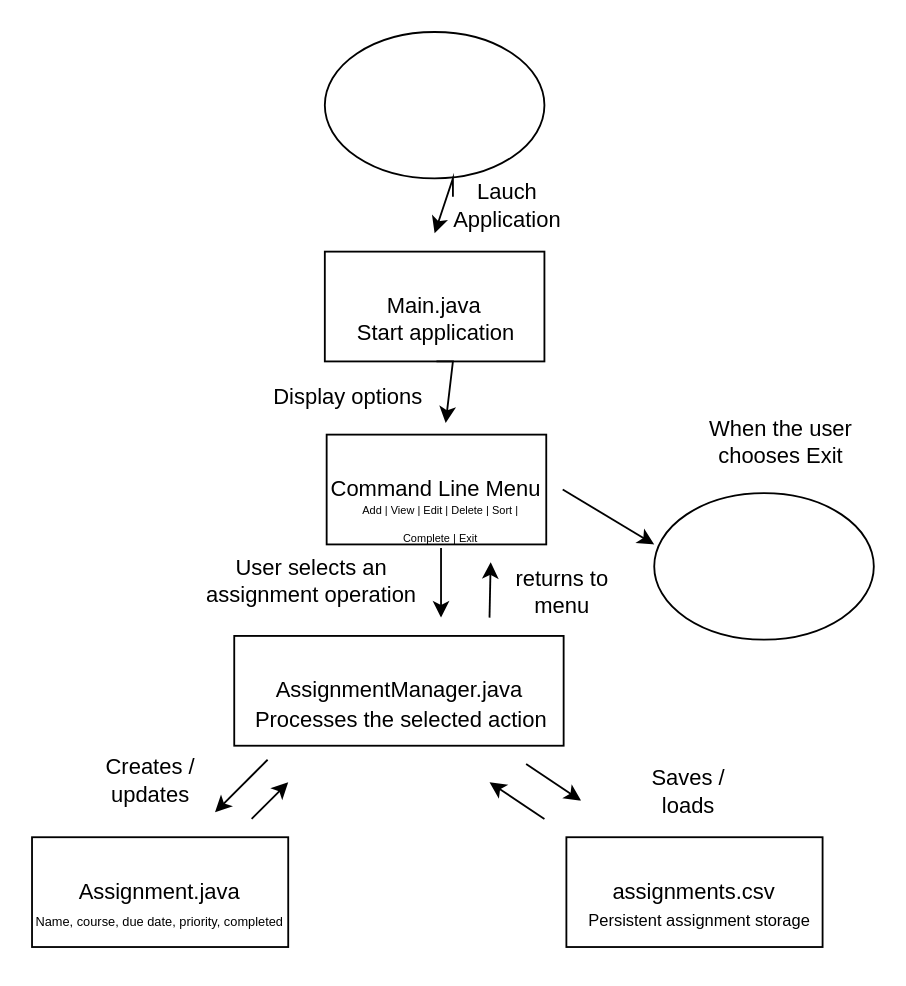
Some shapes in this 906 by 986 pixel diagram are drawn without their labels. Each missing label, with the centre of its shape:
"Exit" goes at point (763, 565).
"Start" goes at point (433, 104).
